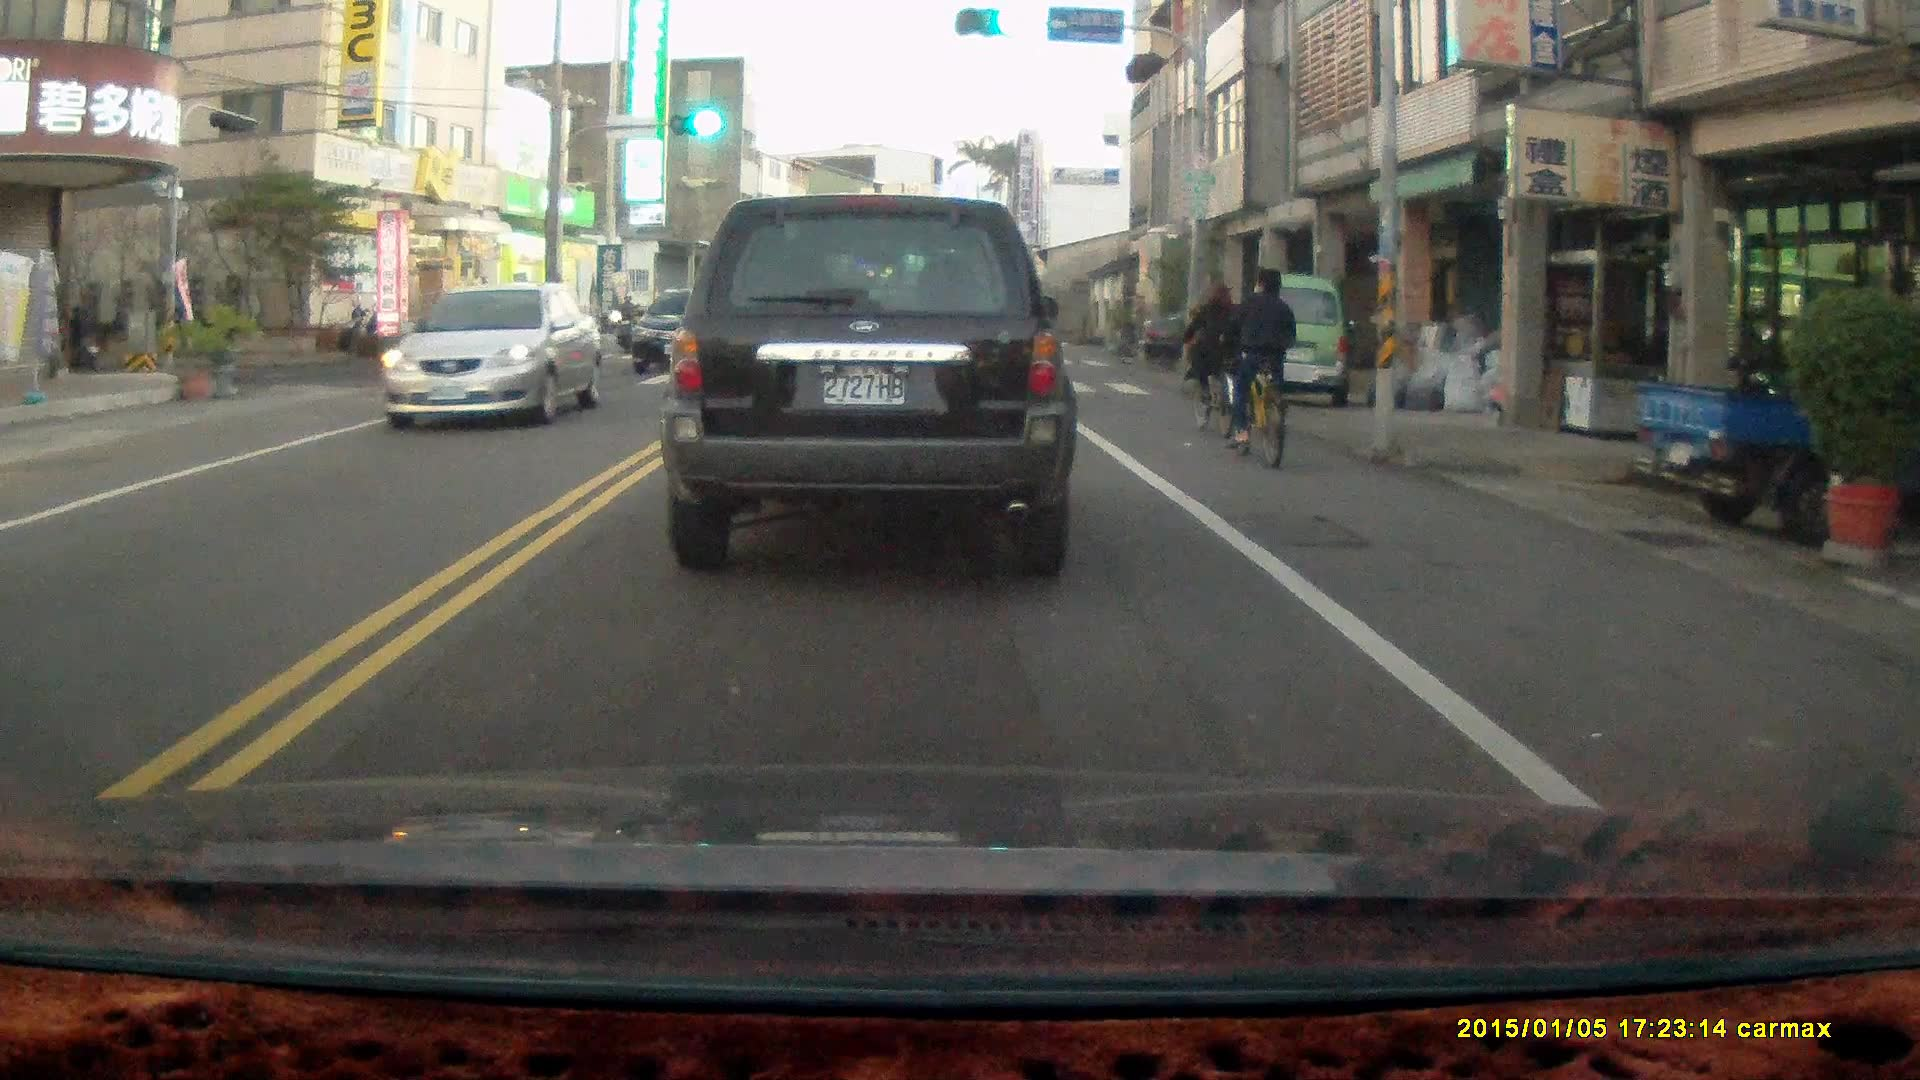rider: (1215, 266, 1296, 472), (1176, 278, 1249, 438), (62, 299, 103, 374), (615, 291, 640, 357)
vehicle: (666, 191, 1080, 575), (387, 284, 606, 427), (1241, 277, 1357, 411), (632, 287, 741, 380)
